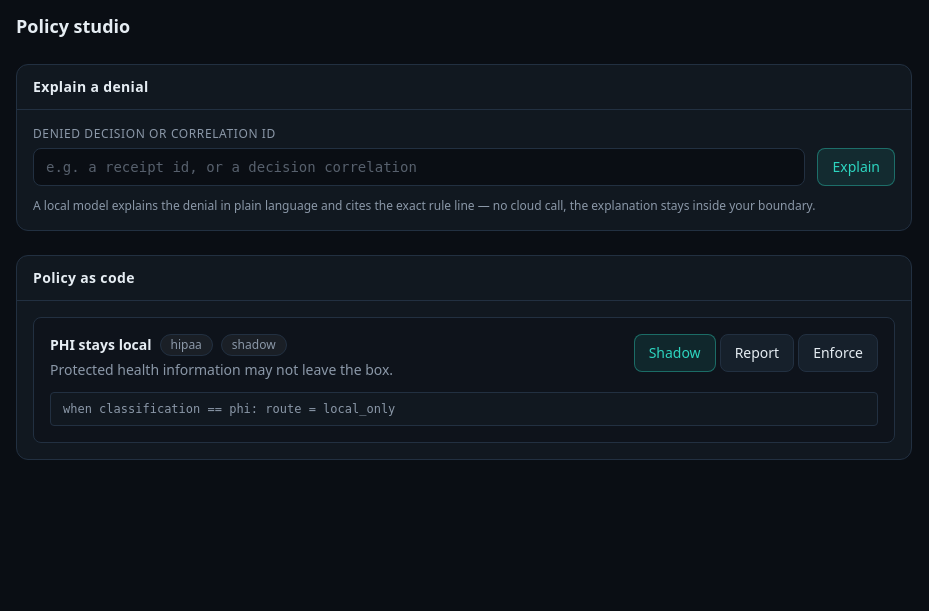
it: PolicyStudioView › explains a denial with a human-readable, rule-cited explanation (the gate)
The image size is (929, 611).
Check: the text "PHI stays local" is shown, box x1=50 y1=335 x2=152 y2=355
In the field labelled "Denied decision or correlation id": coordinates (419, 167) x1=33 y1=148 x2=806 y2=186, type "dec_1"
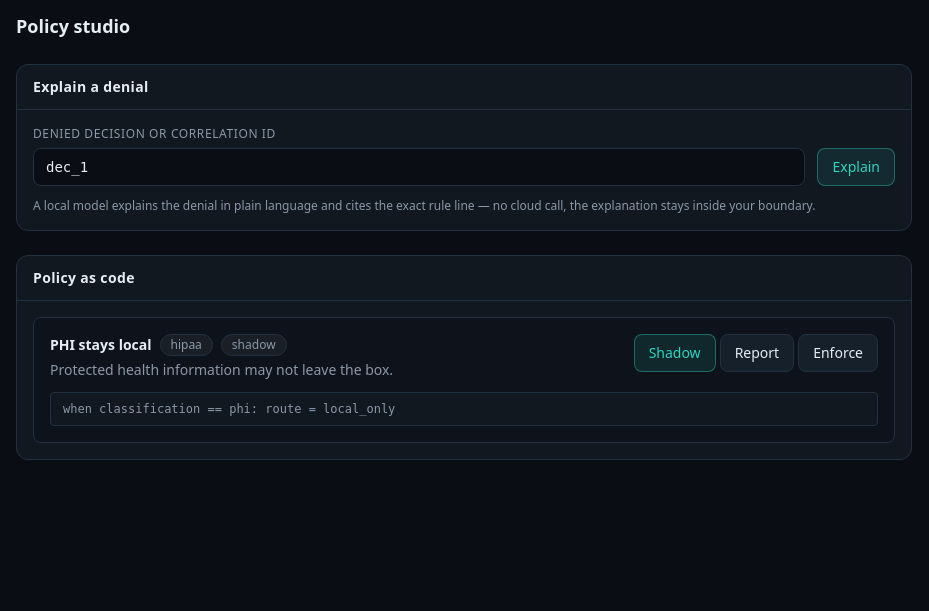
Click the button "Explain": coordinates (856, 167) x1=818 y1=148 x2=895 y2=186
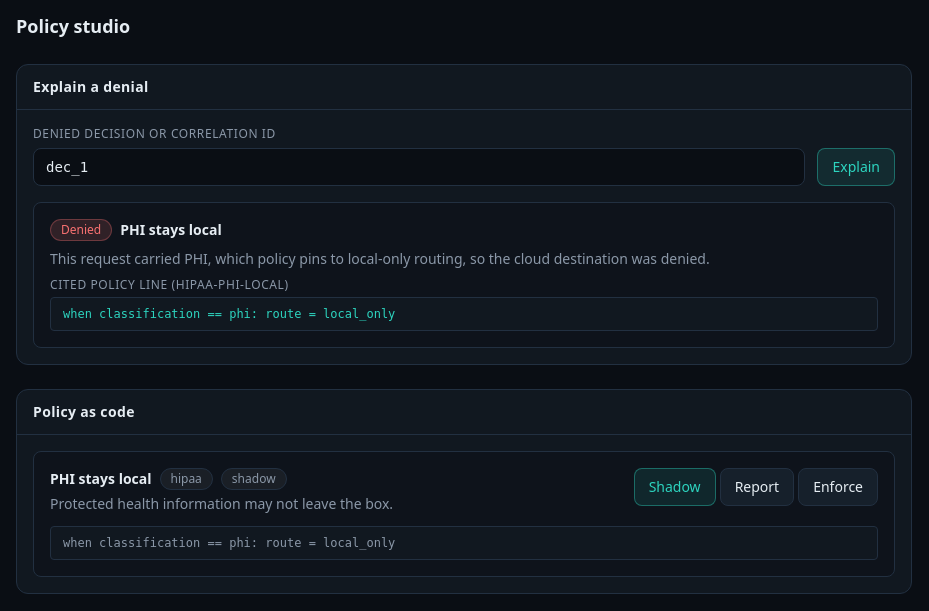
Check: the text "pins to local-only routing, so the cloud destination was denied" is shown, box x1=50 y1=249 x2=710 y2=268
Check: the text "Cited policy line (hipaa-phi-local)" is shown, box x1=50 y1=276 x2=289 y2=293
